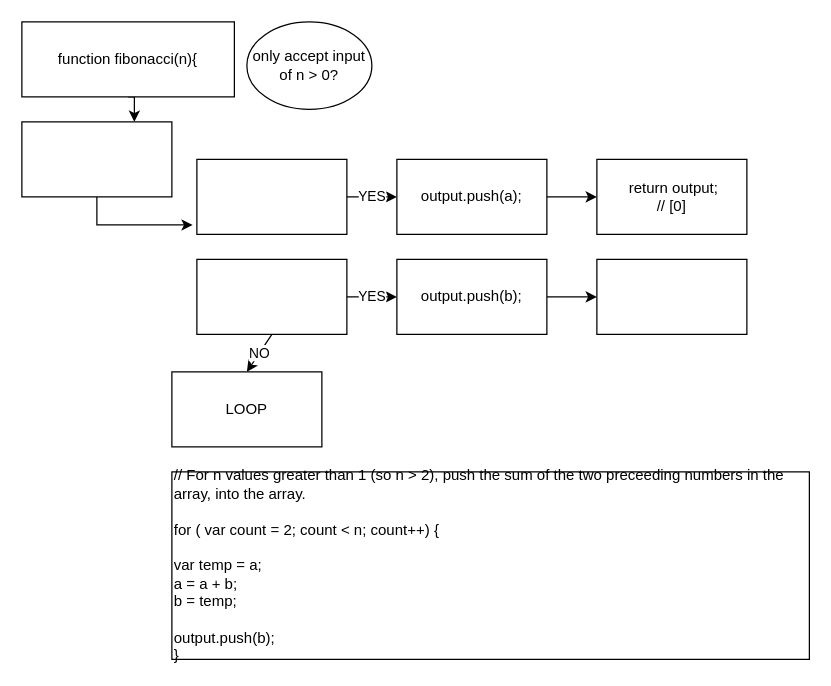
This 831x686 diagram has some shape labels left out. The centre of each missing label's shape, as x and y in pixels:
Basecase 1: Is n === 1?: point 271,196
Basecase 2: Is n === 2?: point 271,296
Create var a = 0; var b = 1;: point 96,159
return output; // [0, 1]: point 671,296
